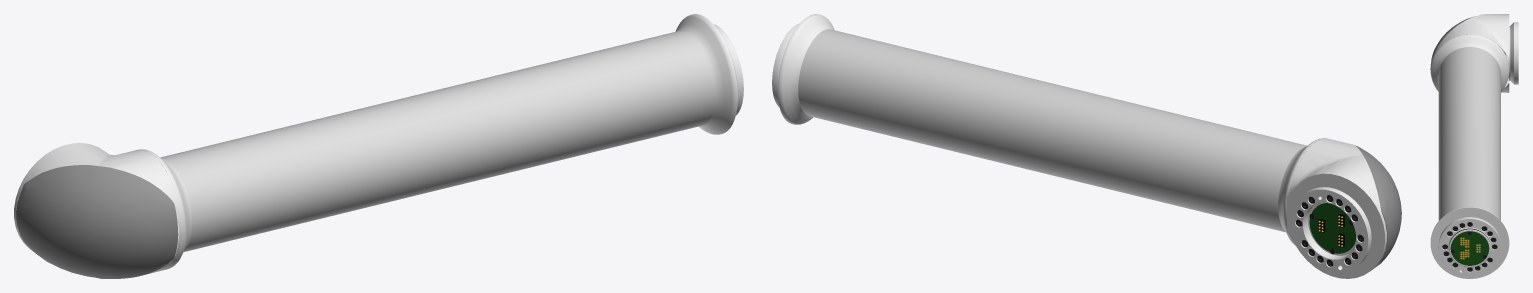
3 renders of one model, left to right at view 1: azimuth 30°, elevation 25°; view 2: azimuth 150°, elevation 25°; view 3: azimuth 270°, elevation 25°, orthographic. The views are drawn at different scales.
Visible parts, largest first — view 1: L86.001; view 2: L86.001; view 3: L86.001.
Boxes of the visible parts, bbox=[...] form: L86.001: bbox=[14, 14, 743, 278]; L86.001: bbox=[772, 14, 1401, 278]; L86.001: bbox=[1430, 14, 1518, 278].
Size of the model in its own units: 0.5479 by 0.0861 by 0.0961.
